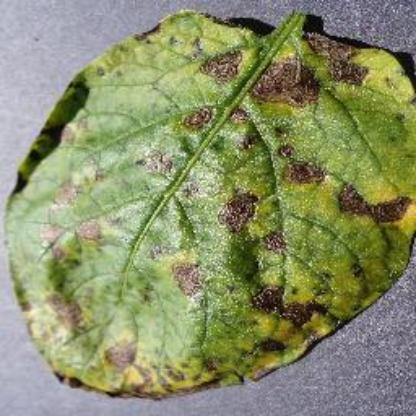Early-Blight: (7, 13, 415, 401)
